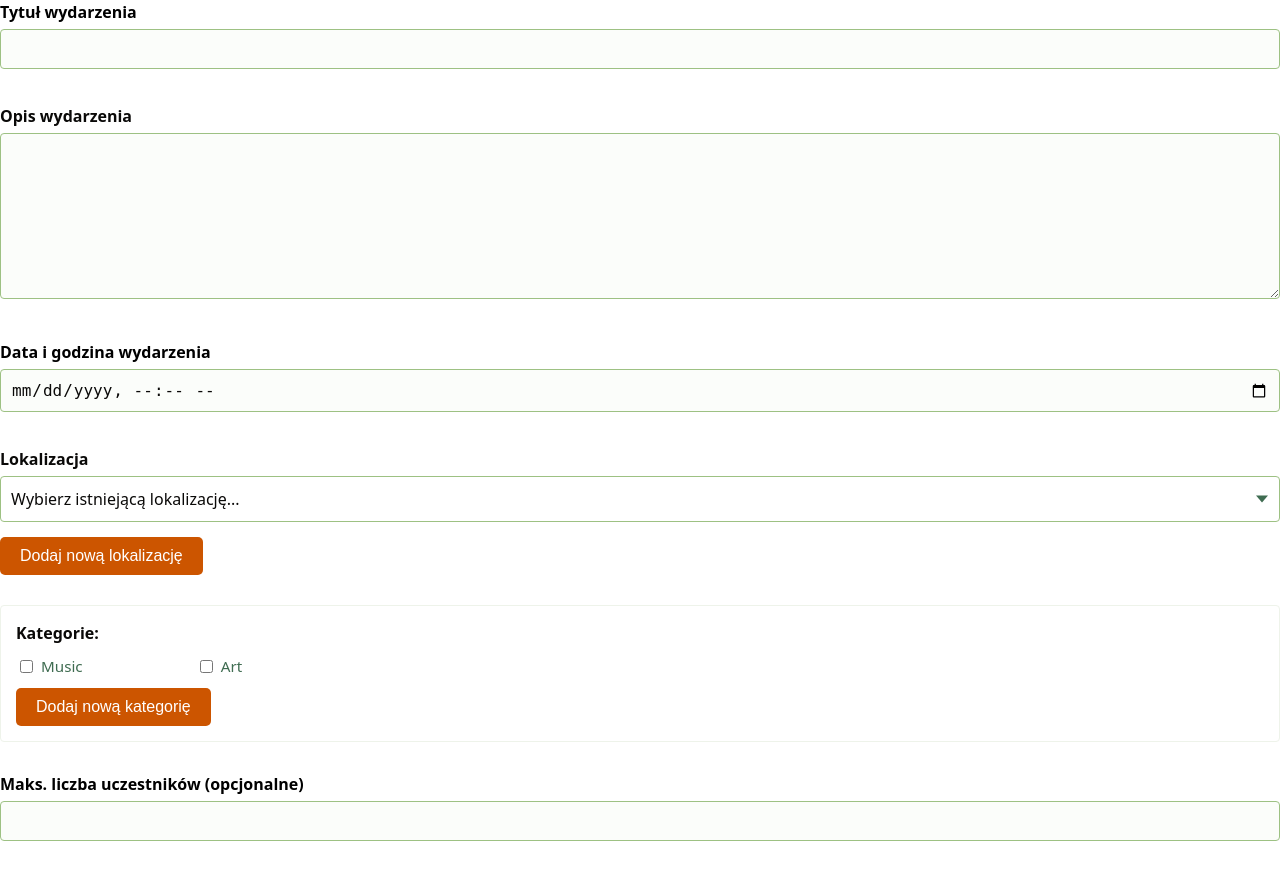
Test: EventForm Component › opens CreateLocation modal and its form
The image size is (1280, 876).
Expected: the field labelled "Tytuł wydarzenia" is shown, [0,29,1279,69]
Click the button "Dodaj nową lokalizację": (101, 556) [0,537,203,575]
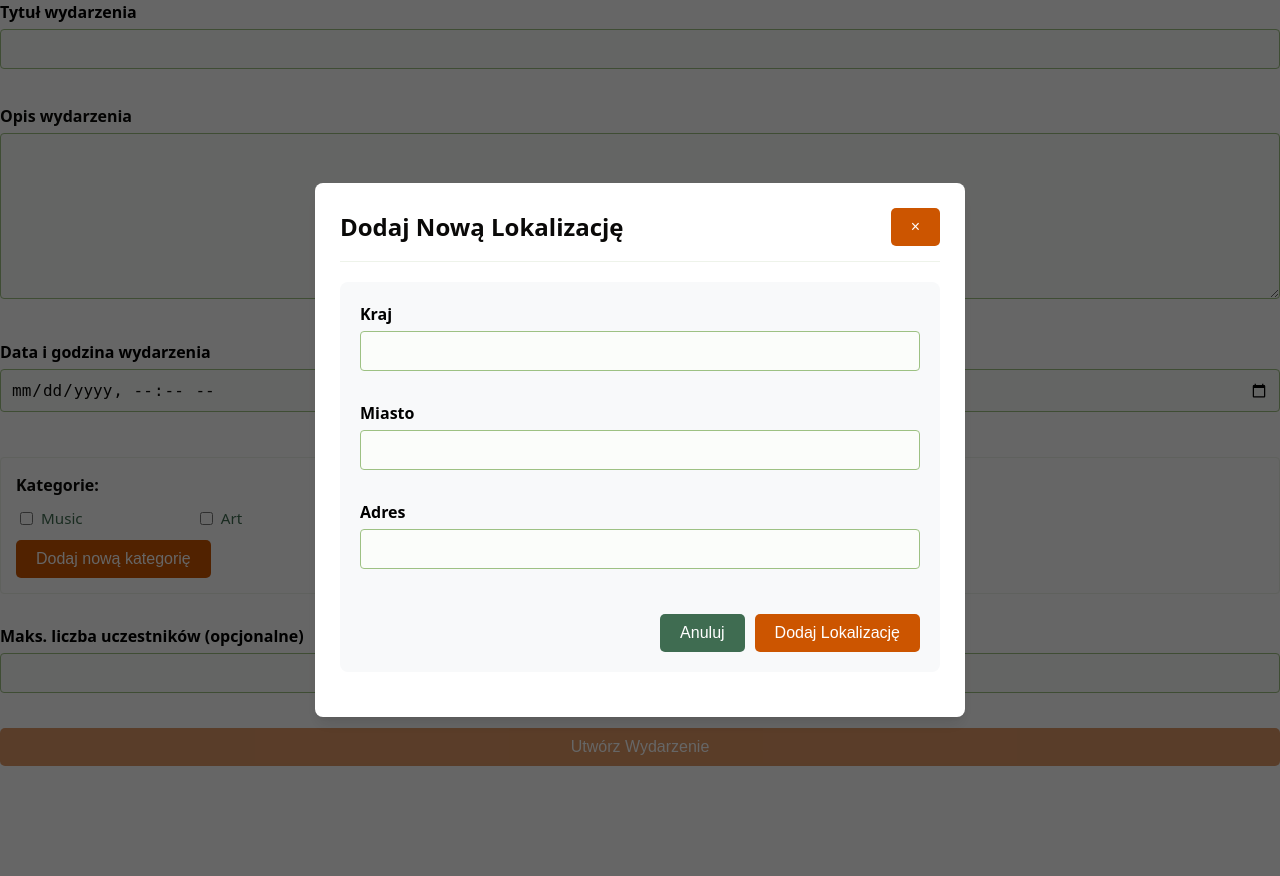
Expected: the heading "Dodaj Nową Lokalizację" is shown, [340,209,624,245]
Expected: the field labelled "Kraj" is shown, [360,331,920,371]
